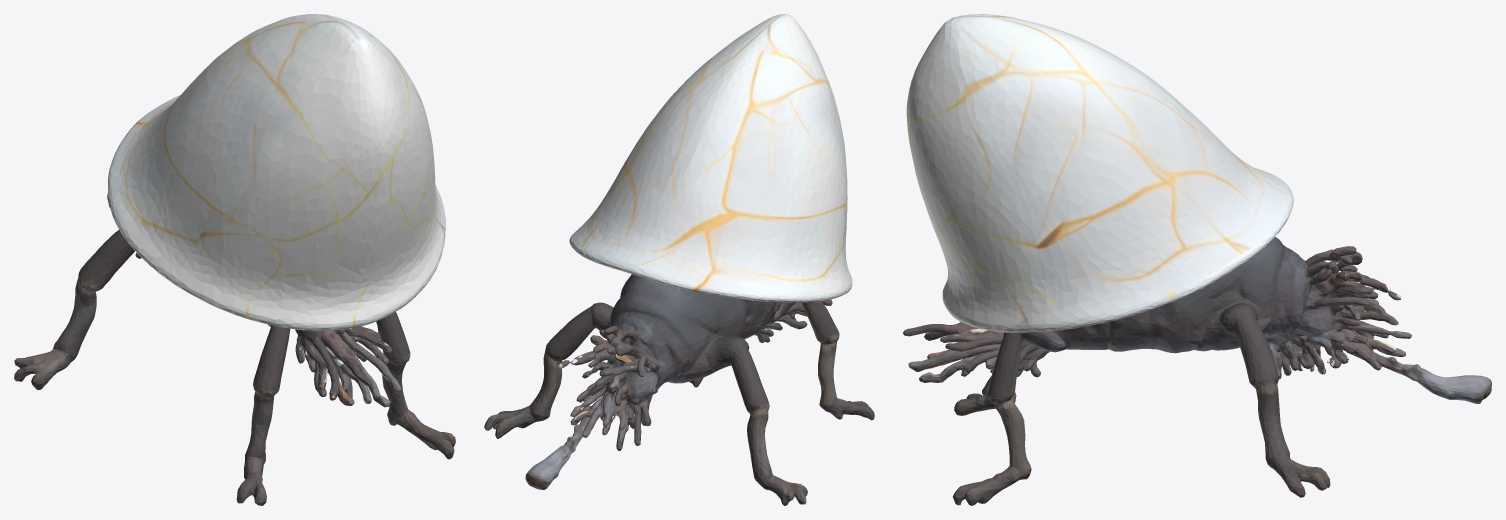
3 views of the same model, side by side, from view 1: azimuth 30°, elevation 25°; view 2: azimuth 150°, elevation 25°; view 3: azimuth 270°, elevation 25° (orthographic). The views are drawn at different scales.
Parts seen in each view (by area): view 1: figure; view 2: figure; view 3: figure.
Boxes of the visible parts, <box> form: figure: <box>14,14,455,505</box>; figure: <box>484,14,874,505</box>; figure: <box>903,14,1491,505</box>.
Size of the model in its own units: 0.7854 by 0.95 by 1.14.
1 material, 1 textured.
